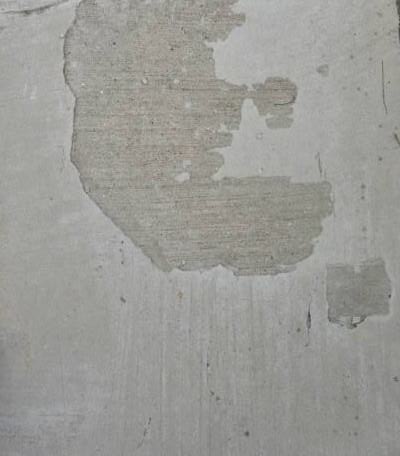Spalling: (61, 1, 335, 277), (325, 255, 393, 330)
